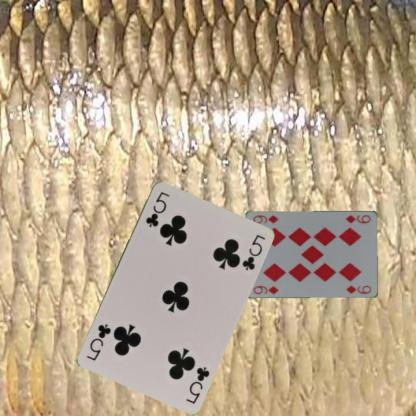5c: (143, 189, 171, 229), (183, 364, 211, 404)
9d: (343, 212, 372, 224), (251, 283, 280, 295)
